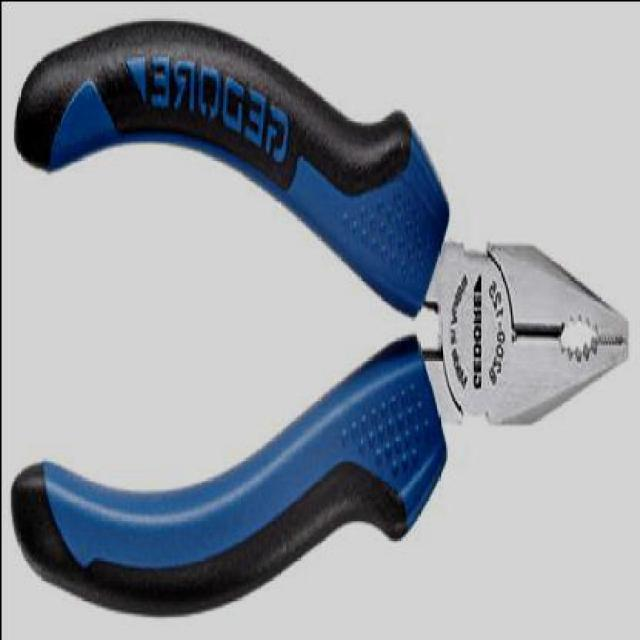pliers: (16, 18, 630, 616)
